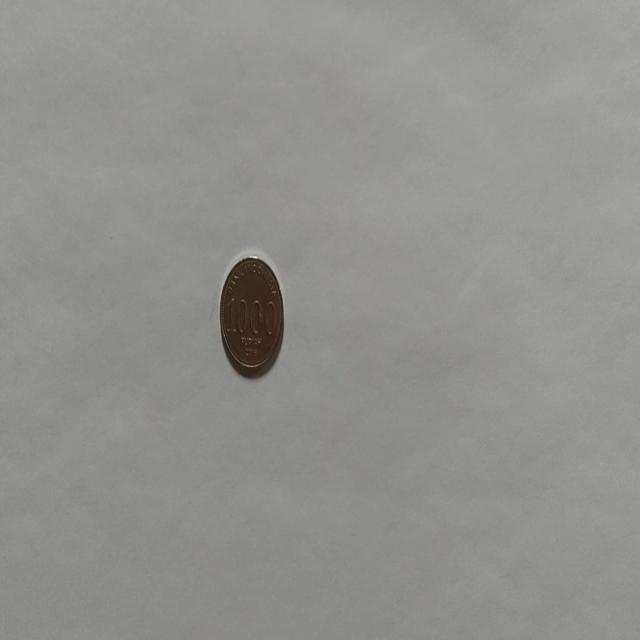seribu rupiah koin: (218, 254, 284, 378)
